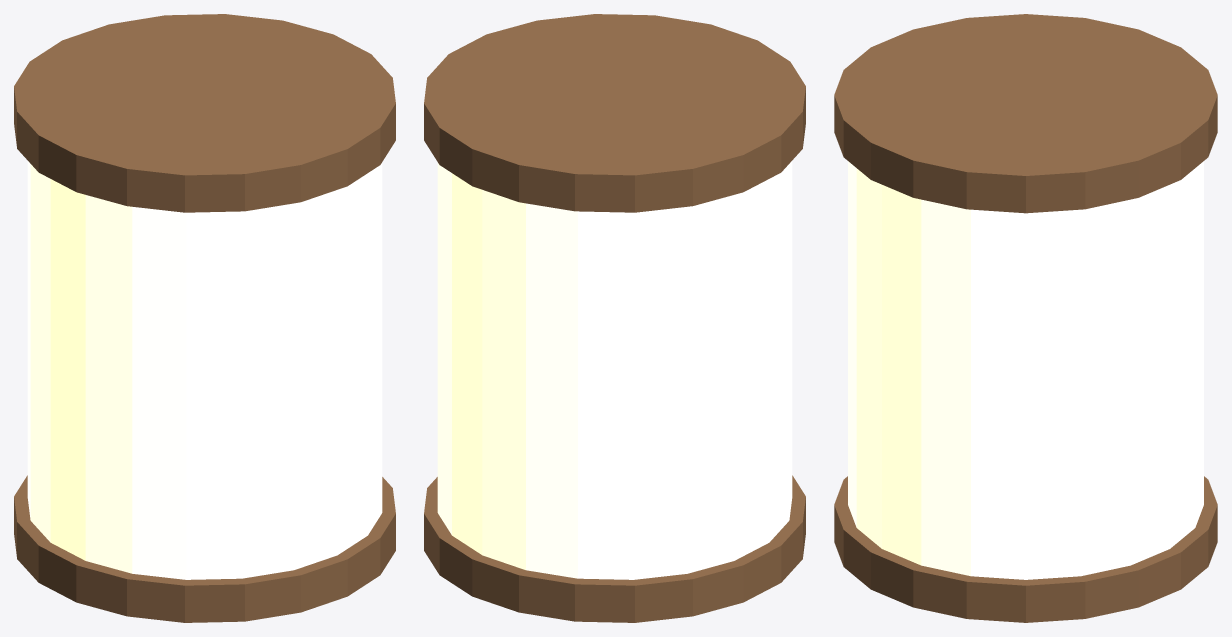
File: paper_lantern.glb
3 renders of one model, left to right at view 1: azimuth 30°, elevation 25°; view 2: azimuth 150°, elevation 25°; view 3: azimuth 270°, elevation 25°, orthographic.
Parts seen in each view (by area): view 1: PaperLantern; view 2: PaperLantern; view 3: PaperLantern.
Part boxes in pixels (<box>): PaperLantern: <box>14,14,395,622</box>; PaperLantern: <box>424,14,805,622</box>; PaperLantern: <box>834,14,1217,622</box>.
Bounding box in the file's own units: 0.56 × 0.72 × 0.56.
